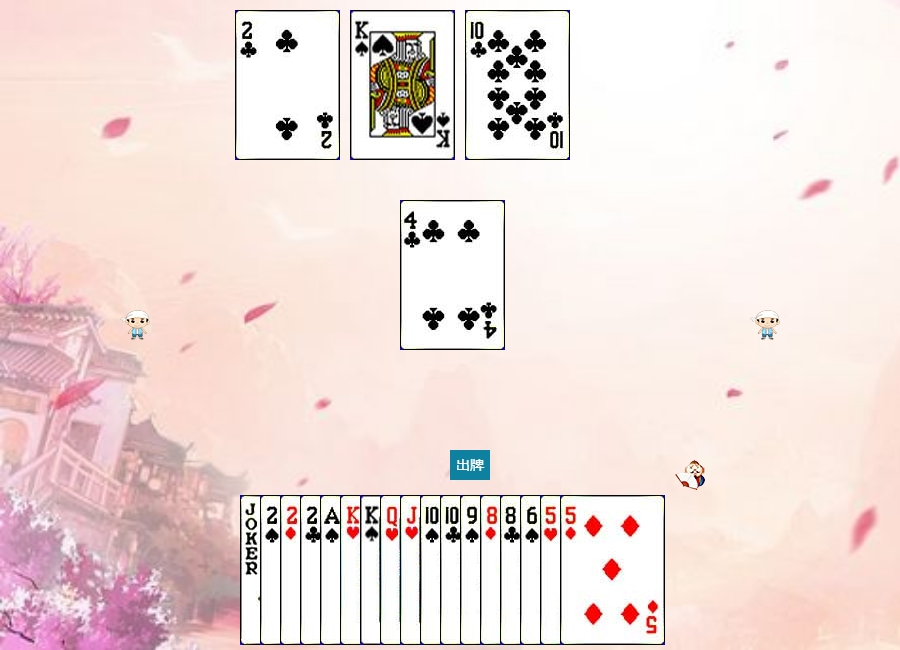10~2: (465, 10, 570, 160), (440, 495, 545, 645)
10~4: (420, 495, 525, 645)
11~3: (400, 495, 505, 645)
12~3: (380, 495, 485, 645)
13~3: (340, 495, 445, 645)
13~4: (350, 10, 455, 160), (360, 495, 465, 645)
14~4: (320, 495, 425, 645)
15~1: (280, 495, 385, 645)
15~2: (235, 10, 340, 160), (300, 495, 405, 645)
15~4: (260, 495, 365, 645)
17~3: (240, 495, 345, 645)
4~2: (400, 200, 505, 350)
5~1: (560, 495, 665, 645)
5~3: (540, 495, 645, 645)
6~4: (520, 495, 625, 645)
8~1: (480, 495, 585, 645)
8~2: (500, 495, 605, 645)
9~4: (460, 495, 565, 645)
